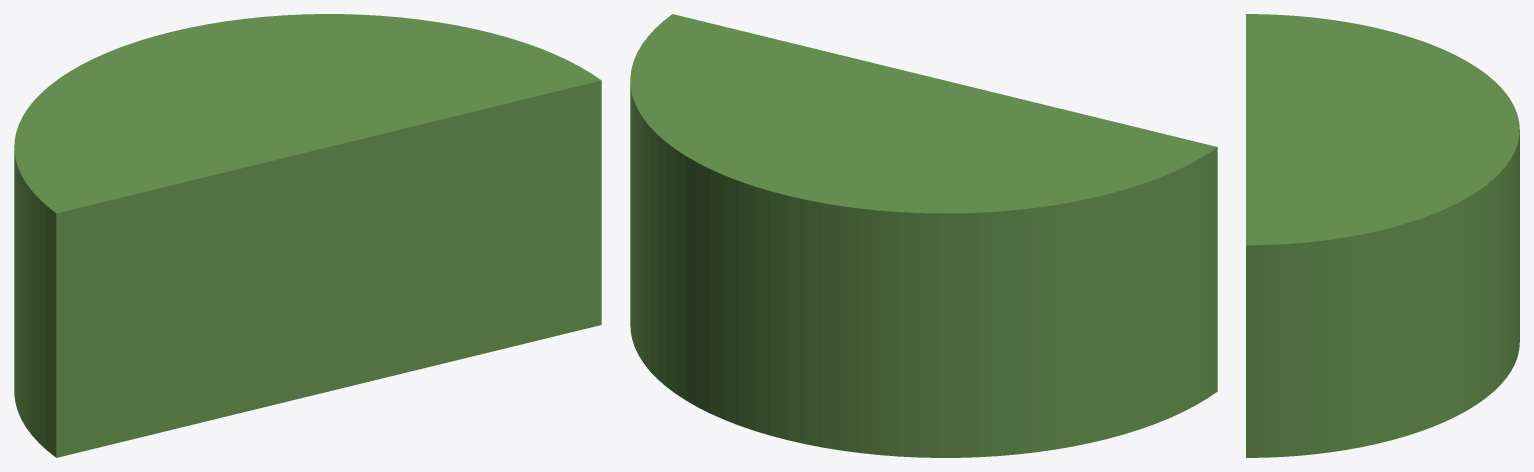
Rendered from BigHemiG.fbx.
The picture shows the model from 3 angles, left to right: view 1: azimuth 30°, elevation 25°; view 2: azimuth 150°, elevation 25°; view 3: azimuth 270°, elevation 25°; orthographic projection. The views are drawn at different scales.
Parts seen in each view (by area): view 1: BigHemiG; view 2: BigHemiG; view 3: BigHemiG.
Boxes of the visible parts, box(x1,y1,x2,y2) form: BigHemiG: box(14, 14, 601, 457); BigHemiG: box(630, 14, 1217, 457); BigHemiG: box(1246, 14, 1519, 457).
Size of the model in its own units: 1400 by 600 by 700.
